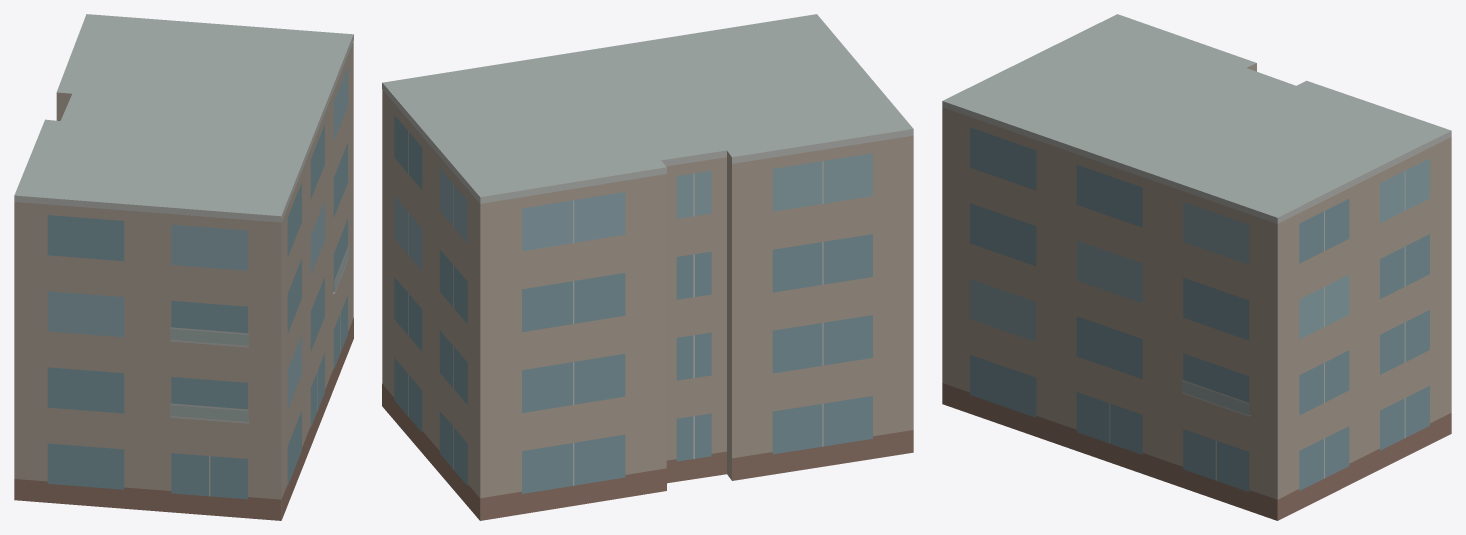
Rendered from survey-upis-32670255.glb.
3 renders of one model, left to right at view 1: azimuth 30°, elevation 25°; view 2: azimuth 150°, elevation 25°; view 3: azimuth 270°, elevation 25°, orthographic. The views are drawn at different scales.
Parts seen in each view (by area): view 1: survey-upis-32670255.tmp; view 2: survey-upis-32670255.tmp; view 3: survey-upis-32670255.tmp.
Boxes of the visible parts, x1,y1,x2,y2 form: survey-upis-32670255.tmp: [14, 14, 353, 520]; survey-upis-32670255.tmp: [382, 14, 913, 520]; survey-upis-32670255.tmp: [942, 14, 1451, 520].
Bounding box in the file's own units: 17.02 × 11.8 × 17.98.
